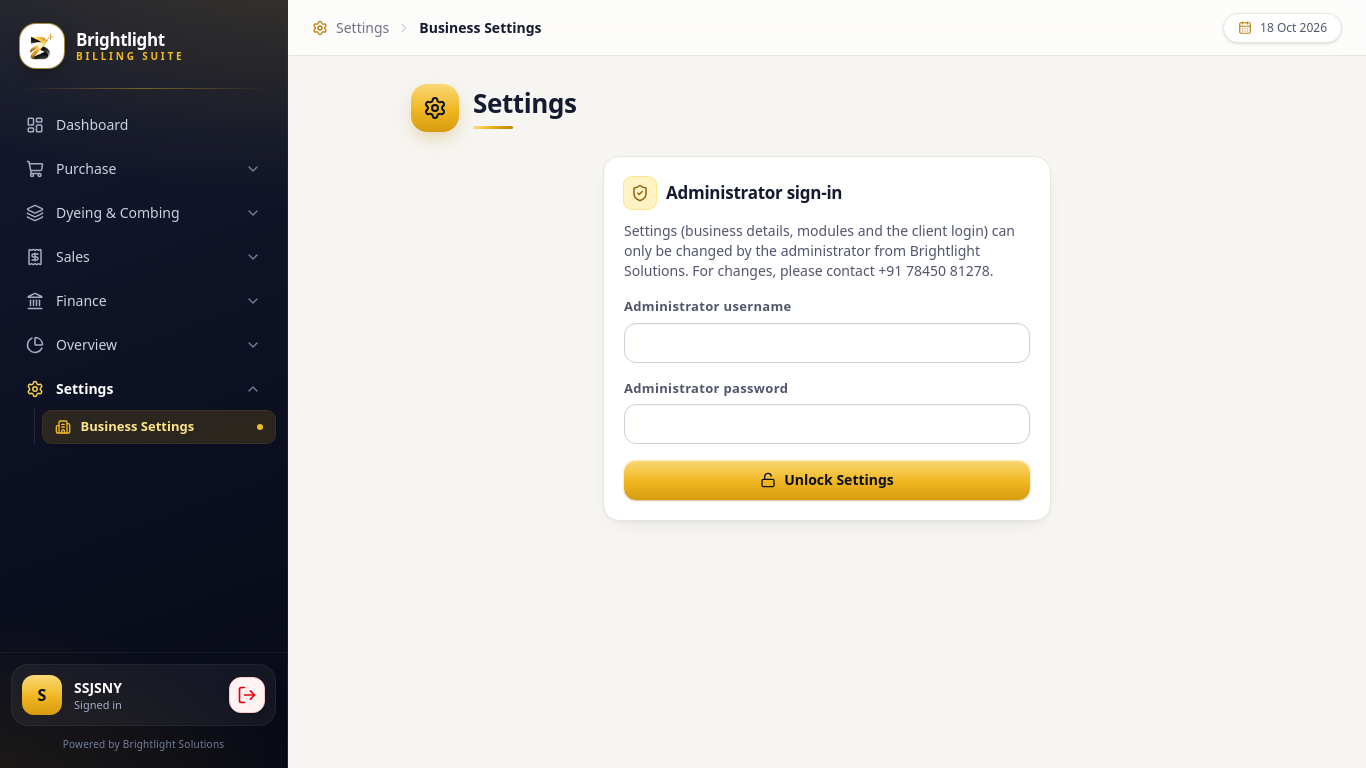
Test: Settings is for the administrator only › a wrong administrator login is refused
Type "7845081278" into the field labelled "Administrator username" at (827, 342), box x1=624 y1=322 x2=1030 y2=362
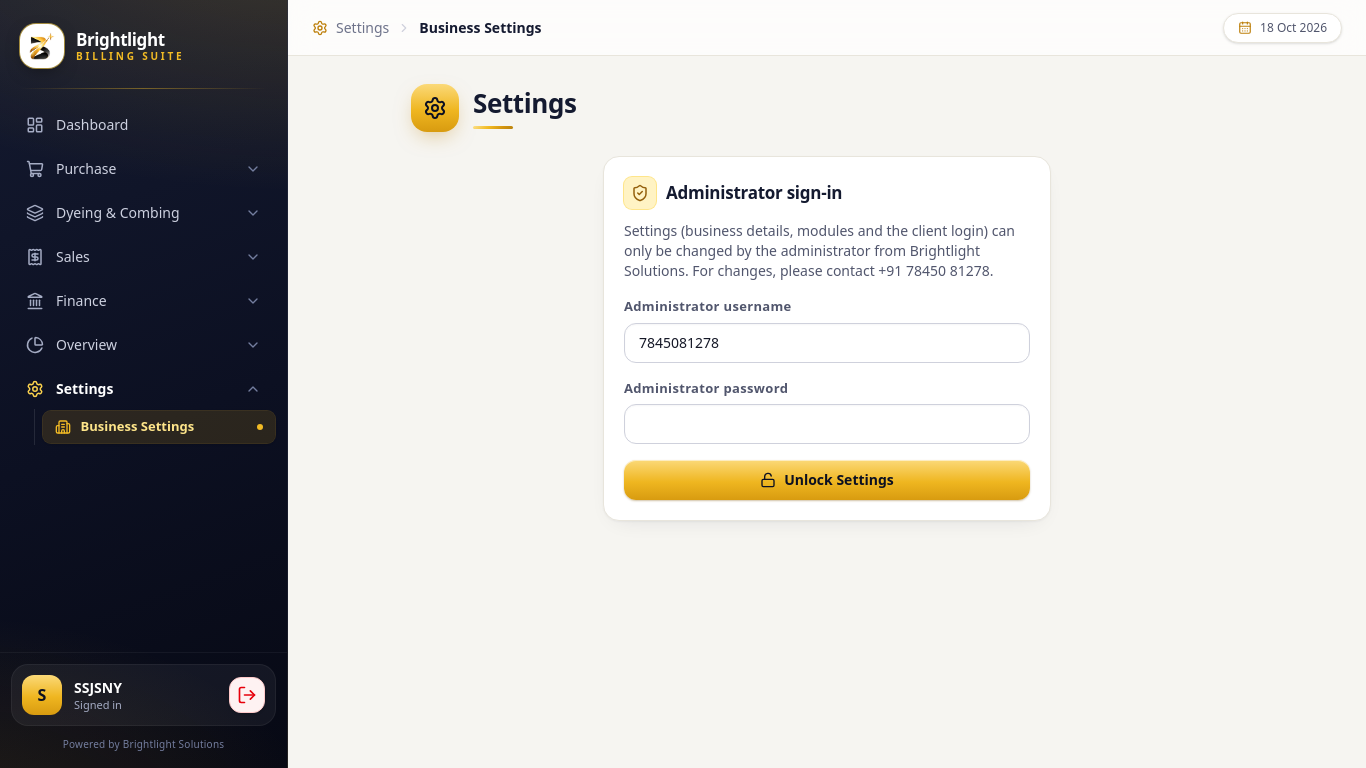
Type "wrong" into the password field labelled "Administrator password" at (827, 424), box x1=624 y1=404 x2=1030 y2=444
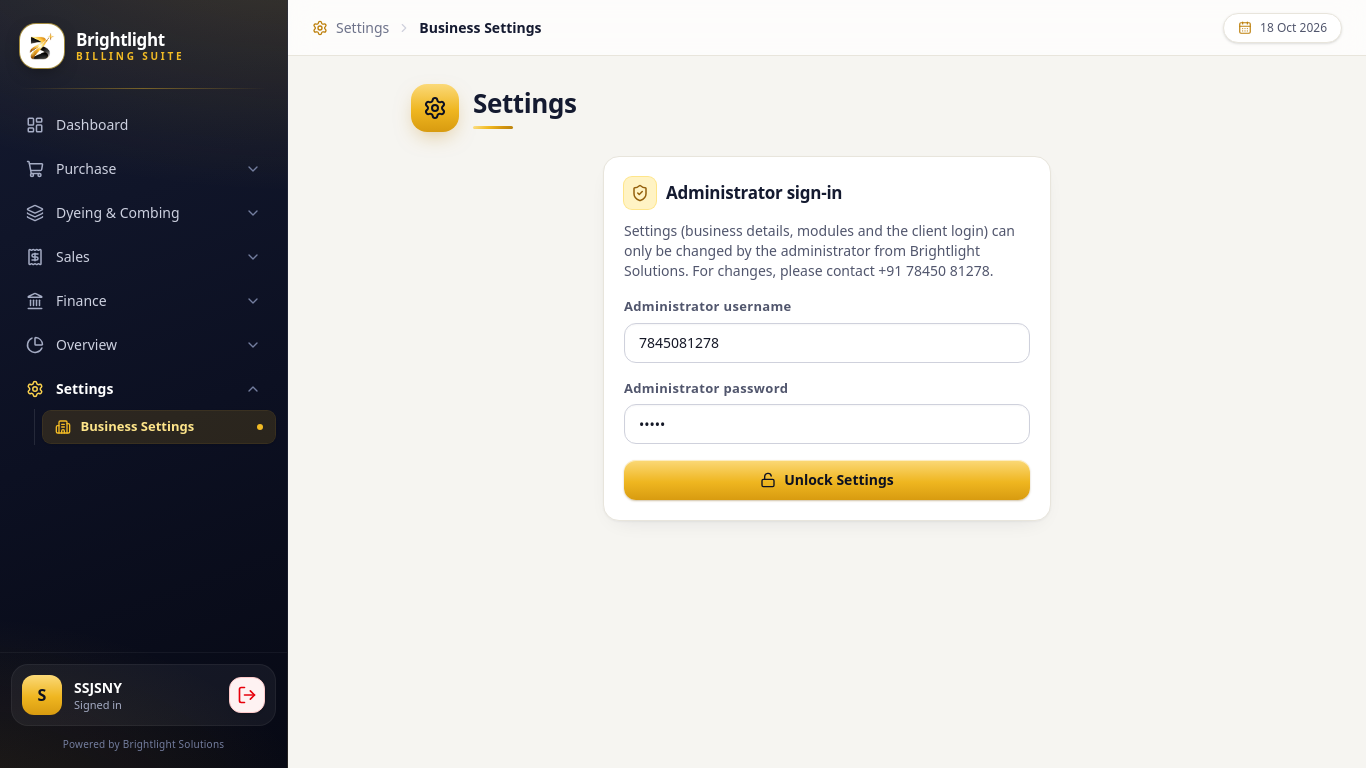
Click the button "Unlock Settings" at (827, 480), box x1=624 y1=460 x2=1030 y2=500
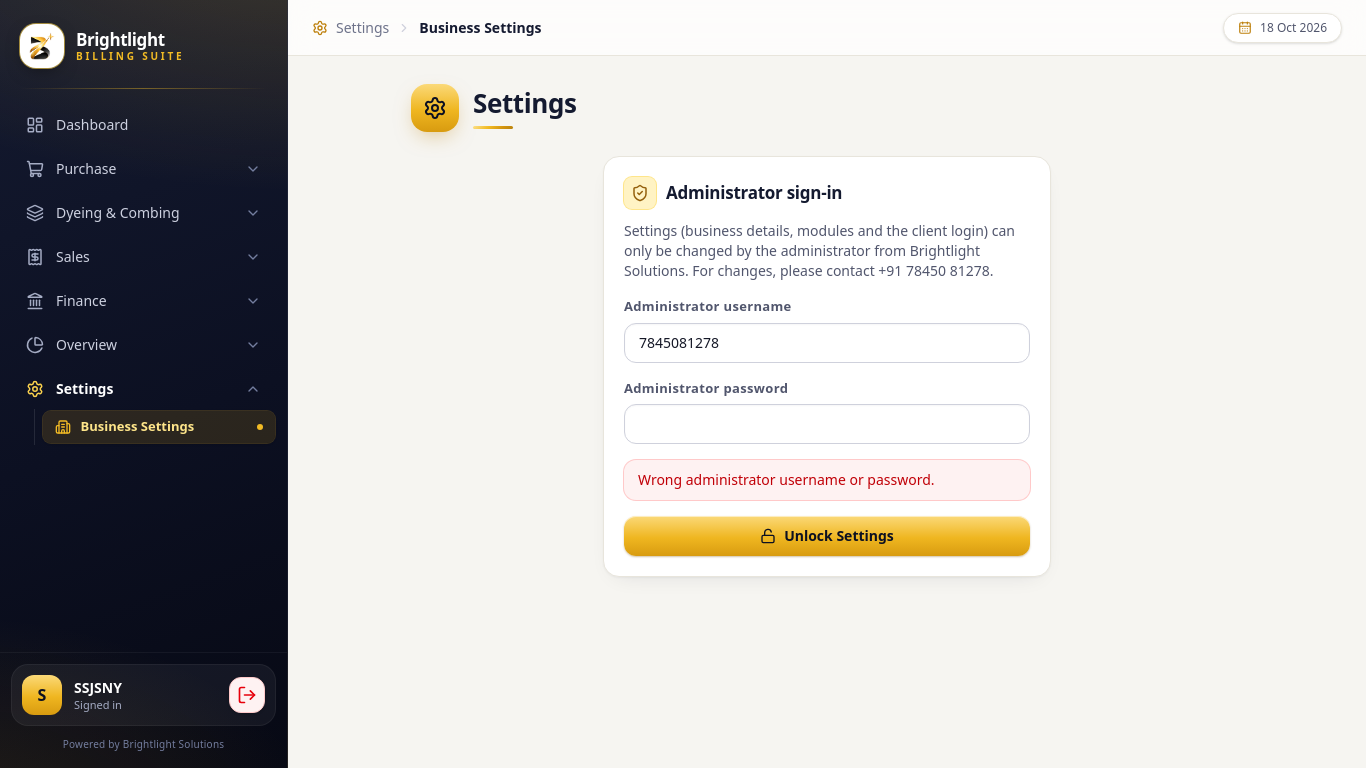
Check: the text "Wrong administrator username or password." is shown, box x1=624 y1=460 x2=1030 y2=500
